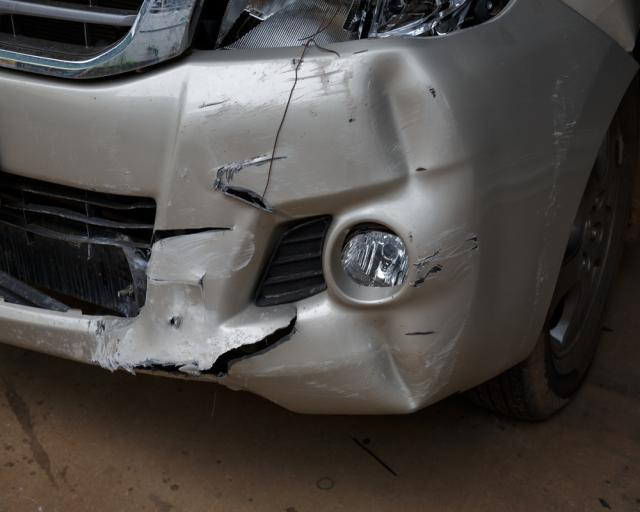crack: (122, 306, 301, 380), (222, 184, 269, 209)
dent: (340, 252, 475, 406), (363, 48, 473, 204)
scratch: (90, 227, 253, 363), (199, 56, 360, 160), (531, 61, 585, 324), (252, 350, 391, 403), (410, 229, 481, 292)
